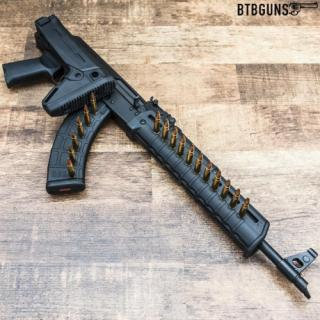gun: (2, 13, 317, 299)
